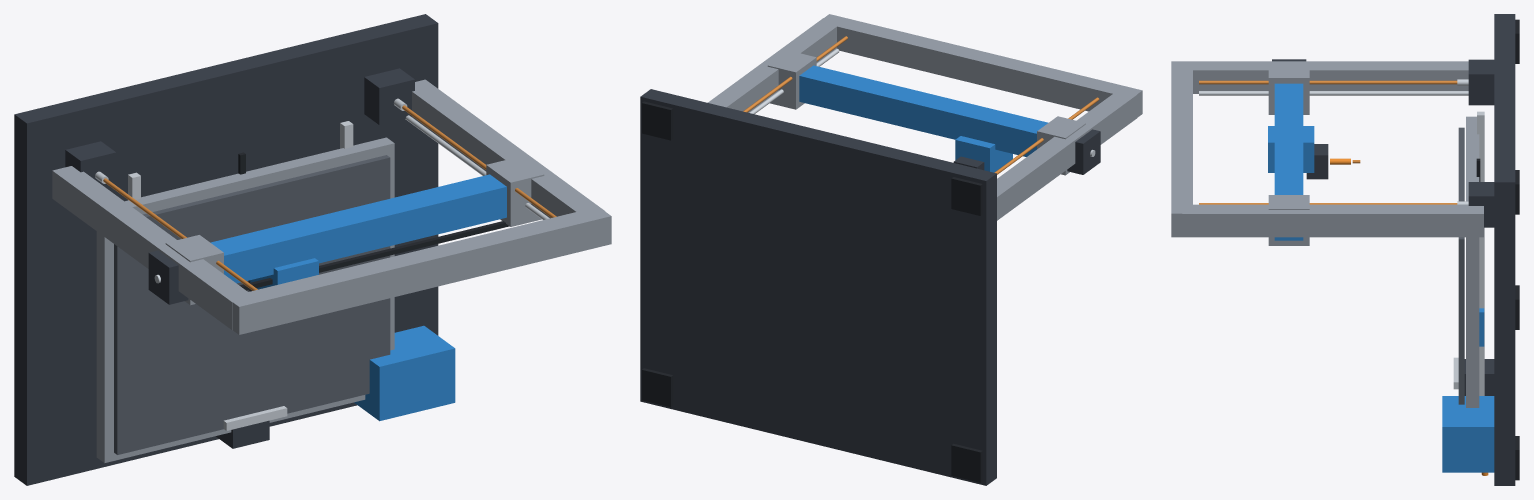
File: robot.glb
3 renders of one model, left to right at view 1: azimuth 30°, elevation 25°; view 2: azimuth 150°, elevation 25°; view 3: azimuth 270°, elevation 25°, orthographic. The views are drawn at different scales.
Visible parts, largest first — view 1: RS_base, RS_build-plate, RS_z-gantry, RS_top-frame-beam, RS_y-bed-carriage, RS_left-frame-column, RS_controller, RS_right-frame-column, RS_right-z-motor, RS_left-z-motor, RS_x-belt, RS_x-motor (+5 smaller); view 2: RS_base, RS_z-gantry, RS_top-frame-beam, RS_left-frame-column, RS_right-frame-column, RS_x-tool-carriage, RS_x-motor; view 3: RS_base, RS_right-frame-column, RS_left-frame-column, RS_z-gantry, RS_controller, RS_top-frame-beam, RS_y-bed-carriage, RS_build-plate, RS_left-z-motor, RS_left-z-guide, RS_left-z-screw, RS_right-z-motor (+6 smaller).
Part boxes in pixels (left/top/right/bottom): RS_base: left=14, top=14, right=438, bottom=485; RS_build-plate: left=114, top=155, right=390, bottom=454; RS_z-gantry: left=165, top=156, right=544, bottom=305; RS_top-frame-beam: left=226, top=206, right=611, bottom=334; RS_y-bed-carriage: left=96, top=137, right=394, bottom=463; RS_left-frame-column: left=52, top=166, right=254, bottom=330; RS_controller: left=354, top=325, right=455, bottom=421; RS_right-frame-column: left=412, top=79, right=604, bottom=218; RS_right-z-motor: left=364, top=68, right=414, bottom=125; RS_left-z-motor: left=65, top=141, right=116, bottom=190; RS_x-belt: left=239, top=221, right=509, bottom=290; RS_x-motor: left=148, top=250, right=188, bottom=304; RS_base: left=640, top=89, right=996, bottom=485; RS_z-gantry: left=767, top=50, right=1085, bottom=175; RS_top-frame-beam: left=820, top=14, right=1142, bottom=117; RS_left-frame-column: left=997, top=91, right=1137, bottom=220; RS_right-frame-column: left=708, top=18, right=841, bottom=112; RS_x-tool-carriage: left=955, top=136, right=1012, bottom=172; RS_x-motor: left=1067, top=129, right=1100, bottom=174; RS_base: left=1494, top=14, right=1519, bottom=485; RS_right-frame-column: left=1182, top=204, right=1483, bottom=237; RS_left-frame-column: left=1182, top=61, right=1468, bottom=93; RS_z-gantry: left=1268, top=64, right=1309, bottom=245; RS_controller: left=1442, top=396, right=1494, bottom=475; RS_top-frame-beam: left=1171, top=61, right=1192, bottom=237; RS_y-bed-carriage: left=1466, top=116, right=1484, bottom=407; RS_build-plate: left=1453, top=127, right=1464, bottom=404; RS_left-z-motor: left=1457, top=59, right=1494, bottom=105; RS_left-z-guide: left=1199, top=91, right=1468, bottom=95; RS_left-z-screw: left=1199, top=80, right=1457, bottom=84; RS_right-z-motor: left=1457, top=182, right=1494, bottom=227.
Bounding box in the file's own units: 9.5 × 8 × 8.32.
